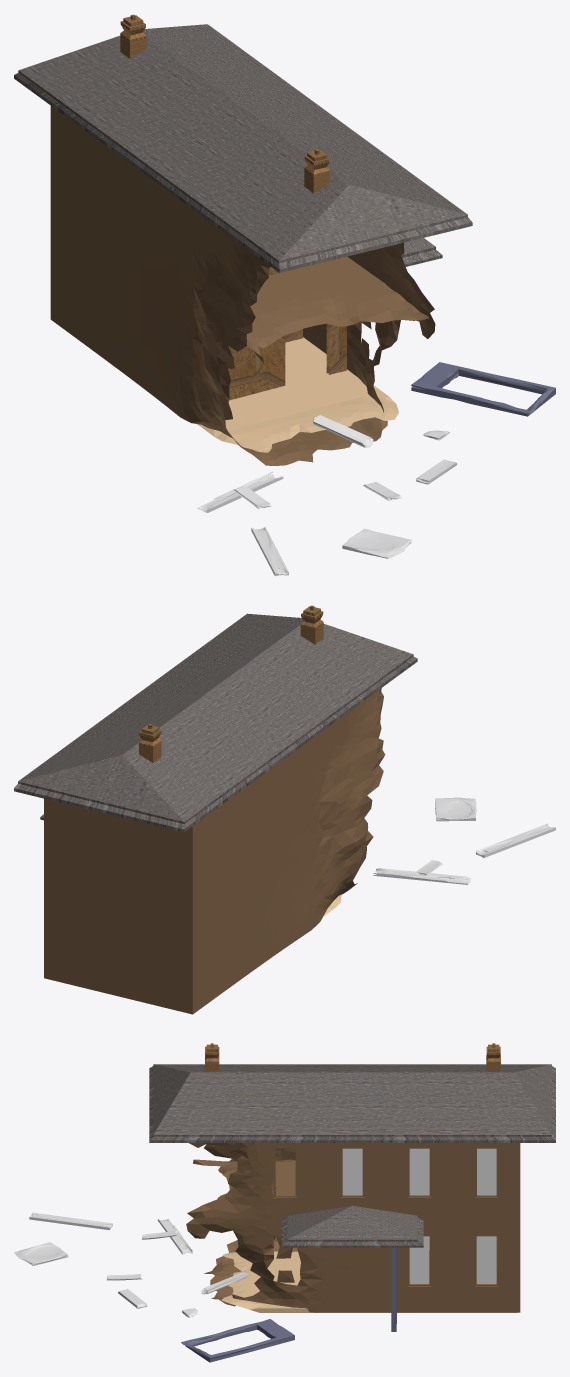
Rendered from house_2.fbx.
3 renders of one model, top to bottom at view 1: azimuth 30°, elevation 25°; view 2: azimuth 150°, elevation 25°; view 3: azimuth 270°, elevation 25°, orthographic. The views are drawn at different scales.
Visible parts, largest first — view 1: Cylinder, Cube, floor.001, floor, floor.002, Cube.004, Cube.011, Cube.006, Cube.005, Cube.010, Cone, Cube.008 (+1 smaller); view 2: Cube, Cylinder, Cube.011, Cube.010, Cube.008, Cube.005, Cube.006; view 3: Cube, Cylinder, Cone, floor.001, window, Cube.004, floor, Cube.011, Cube.008, Cube.003, Cube.010, Cube.005 (+1 smaller).
Part boxes in pixels (x1,y1,x2,y2): Cylinder: (14, 24, 472, 272); Cube: (50, 106, 435, 465); floor.001: (197, 337, 398, 452); floor: (246, 256, 428, 363); floor.002: (228, 266, 346, 400); Cube.004: (411, 362, 555, 416); Cube.011: (342, 528, 411, 558); Cube.006: (120, 14, 146, 58); Cube.005: (304, 149, 330, 193); Cube.010: (197, 471, 283, 512); Cone: (401, 238, 442, 266); Cube.008: (251, 526, 288, 576); Cube: (44, 688, 385, 1014); Cylinder: (14, 613, 417, 832); Cube.011: (435, 797, 476, 821); Cube.010: (373, 868, 470, 884); Cube.008: (476, 823, 555, 857); Cube.005: (300, 605, 323, 644); Cube.006: (139, 724, 161, 762); Cube: (186, 1143, 520, 1312); Cylinder: (149, 1064, 555, 1142); Cone: (281, 1205, 423, 1247); floor.001: (221, 1251, 517, 1312); window: (342, 1148, 429, 1195); Cube.004: (181, 1319, 294, 1362); floor: (193, 1159, 295, 1199); Cube.011: (14, 1242, 68, 1265); Cube.008: (29, 1212, 112, 1230); Cube.003: (391, 1247, 396, 1331); Cube.010: (157, 1219, 192, 1254); Cube.005: (205, 1043, 219, 1071).
Size of the model in its own units: 1106 by 821 by 1709.
Materials: 6 (3 with a texture image).
